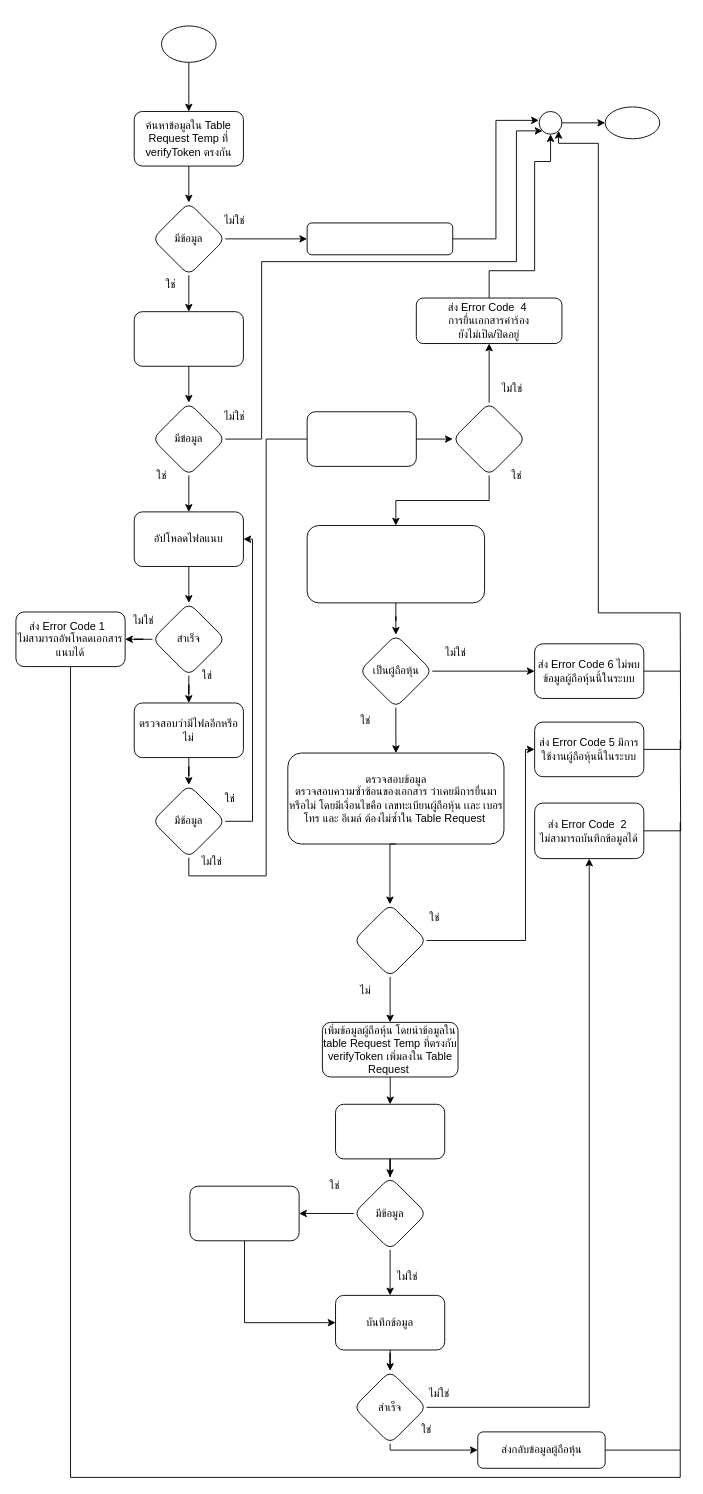
This 703x1494 diagram has some shape labels left out. Here are the shapes that lost their labels. From the top down, the box of each, then its label:
(161, 25, 216, 62): เริ่มต้น
(604, 106, 660, 139): สิ้นสุด
(306, 222, 453, 255): ส่ง Error Code 3 รหัสยืนยันตัวตนไม่ถูกต้อง
(133, 311, 243, 366): ตรวจสอบไฟลแนบ
(306, 411, 416, 466): ตรวจสอบเวลาเปิดยื่นรับแบบคำร้อง
(452, 402, 526, 475): เปิดรับเอกสาร
(306, 525, 485, 603): ตรวจสอบข้อมูล ตรวจสอบความเป็นผู้ถือหุ้น โดยตรวจสอบจาก Table Shareholder
(353, 903, 427, 977): ซ้ำซ้อน
(335, 1103, 445, 1159): ตรวจสอบข้อมูลการรับมอบฉันทะ จากที่ได้รับมาจาก paramter in : requestInfo
(189, 1185, 299, 1241): เพิ่มข้อมูลการรับมอบฉันทะ
